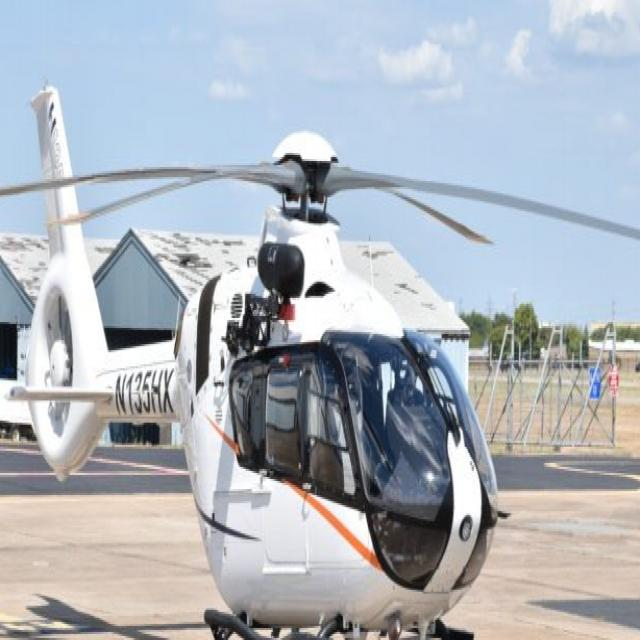helicopter: (1, 81, 640, 640)
